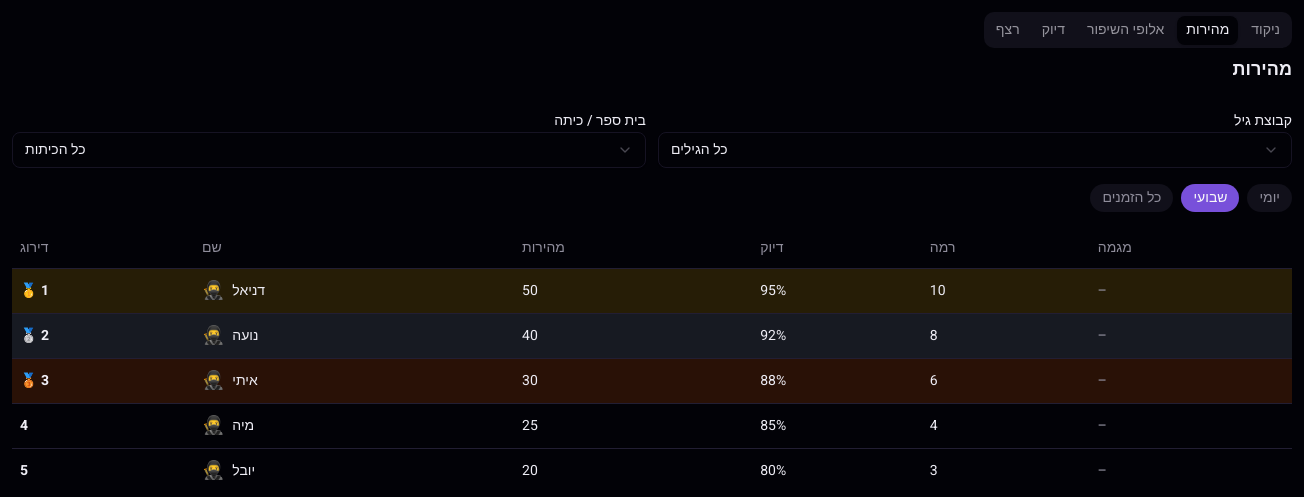
Scenario: LeaderboardTable › switches to the improvement board
What coordinates should you click on to do the following:
click the tab with test id "category-improvement"
I would click on:
 (1126, 30)
Its box is top-left (1078, 16), bottom-right (1173, 44).
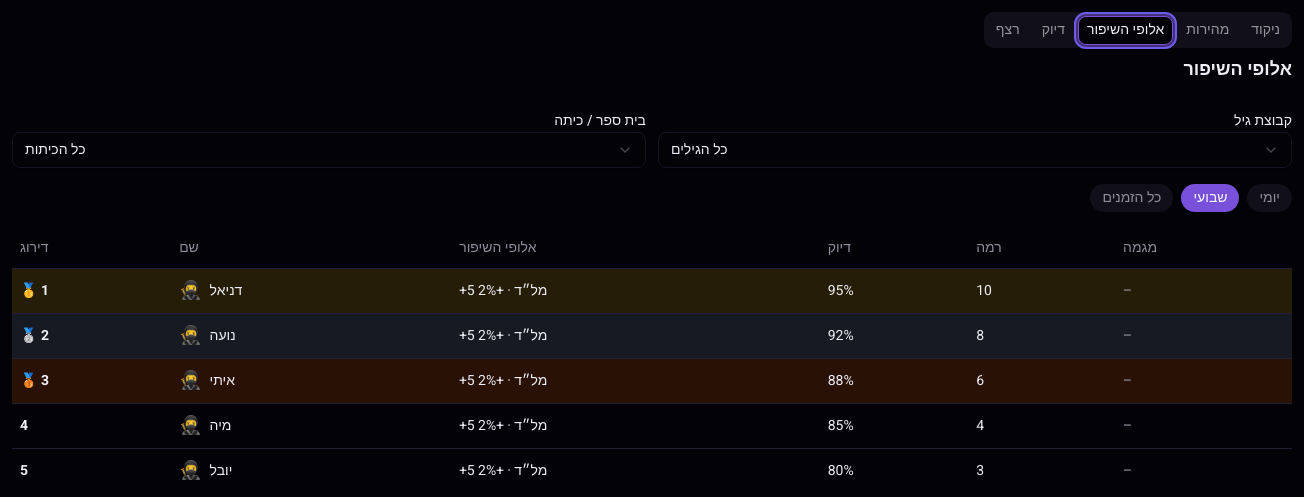
Result: the text with test id "leaderboard-title" reads "אלופי השיפור" at top-left (1183, 56), bottom-right (1292, 83)
